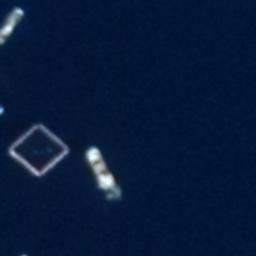square_solid: (5, 118, 75, 183)
